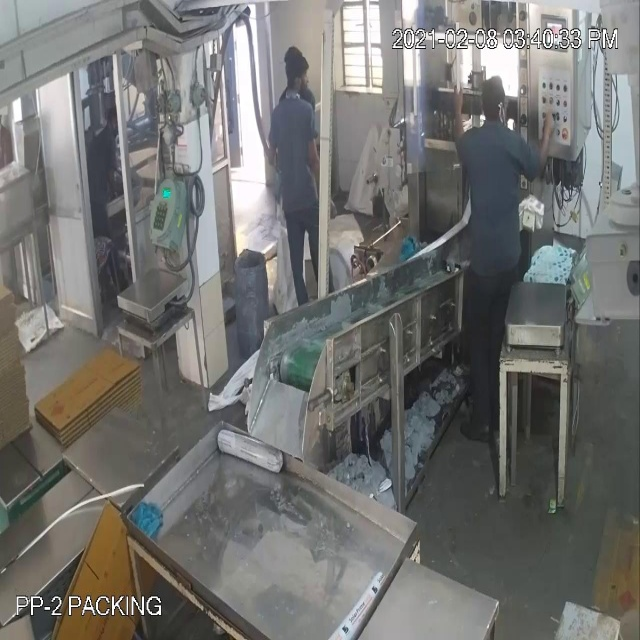Sin_guantes: (436, 81, 478, 164), (520, 98, 561, 181)
